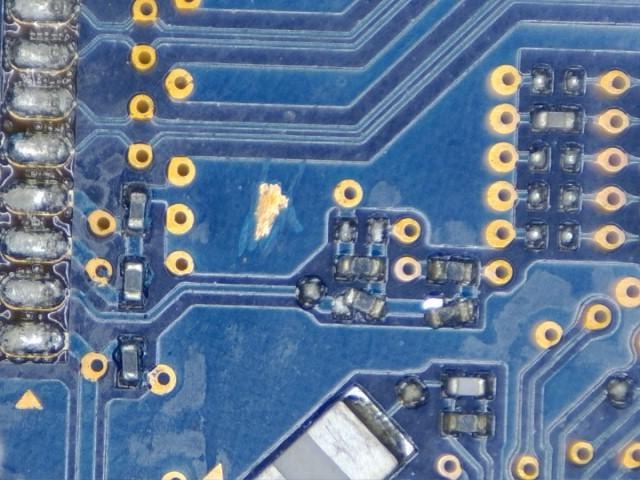pcb_defect: (0, 321, 63, 357), (2, 227, 67, 261), (10, 38, 74, 71), (8, 84, 72, 117), (4, 275, 66, 309), (7, 133, 68, 165), (254, 184, 288, 239), (6, 184, 67, 213), (334, 288, 386, 321), (422, 298, 477, 328), (10, 0, 76, 22)
